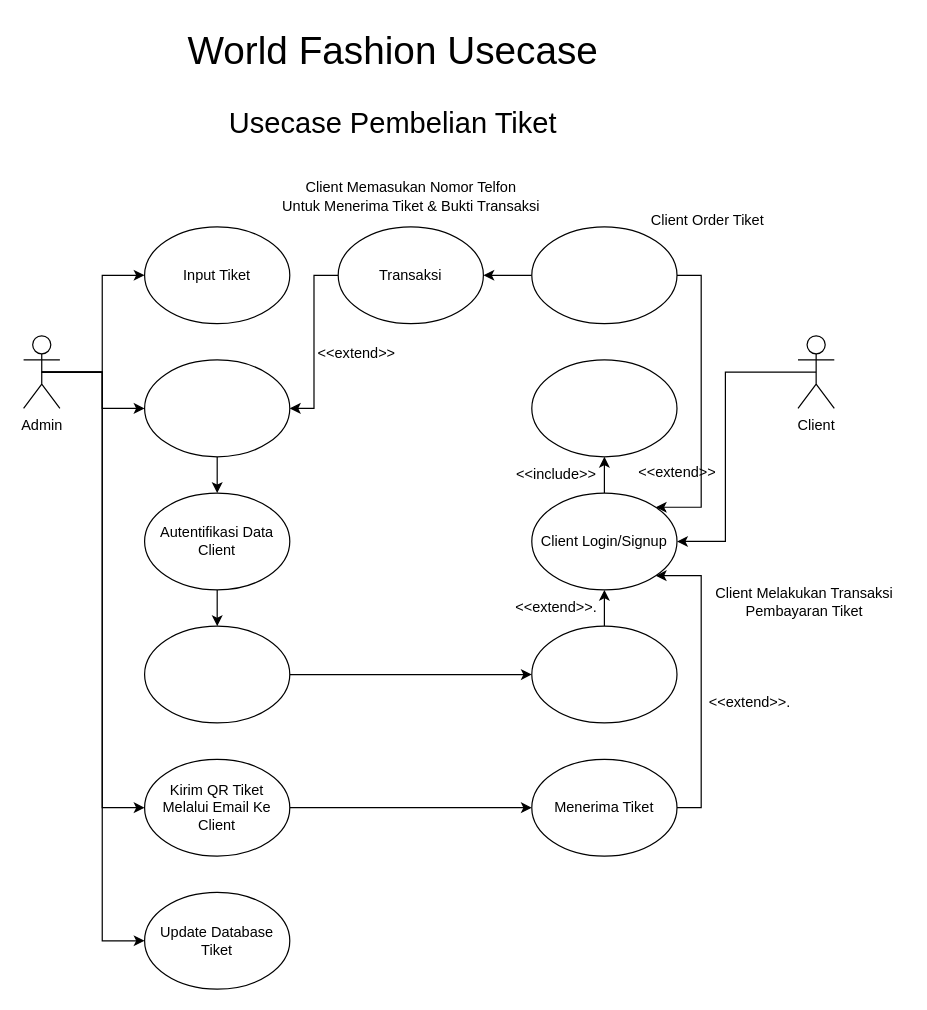
Some shapes in this 927 by 1010 pixel diagram are drawn without their labels. The centre of each missing label's shape, as x and y in pixels:
"Autentifikasi Data Diri" belongs at [604,408].
"Bukti Transaksi" belongs at [604,674].
"Cek Bukti Transaksi" belongs at [216,408].
"Kirim Bukti Transaksi" belongs at [216,674].
"Pemesanan Tiket" belongs at [604,275].
